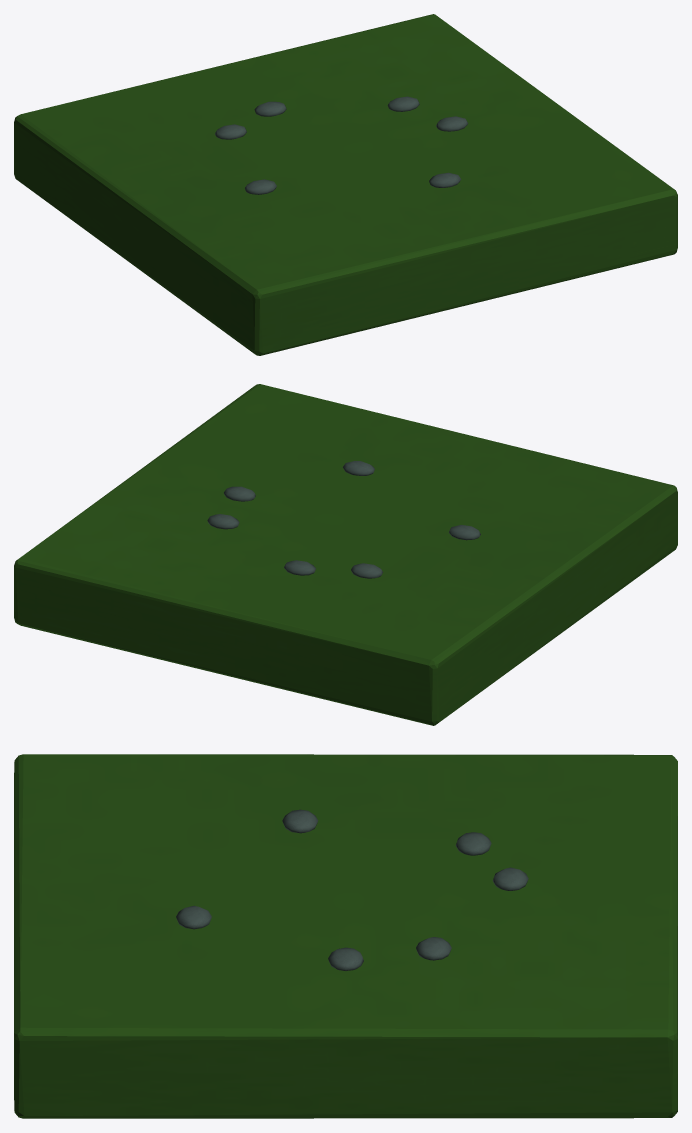
File: SM_floor_tile_LOD1.fbx
The picture shows the model from 3 angles, top to bottom: view 1: azimuth 30°, elevation 25°; view 2: azimuth 150°, elevation 25°; view 3: azimuth 270°, elevation 25°; orthographic projection. The views are drawn at different scales.
Visible parts, largest first — view 1: SM_floor_tile_LOD1; view 2: SM_floor_tile_LOD1; view 3: SM_floor_tile_LOD1.
Boxes of the visible parts, bbox=[...] form: SM_floor_tile_LOD1: bbox=[14, 14, 677, 355]; SM_floor_tile_LOD1: bbox=[14, 384, 677, 725]; SM_floor_tile_LOD1: bbox=[14, 754, 677, 1118].
Size of the model in its own units: 0.9982 by 0.9982 by 0.1642.
